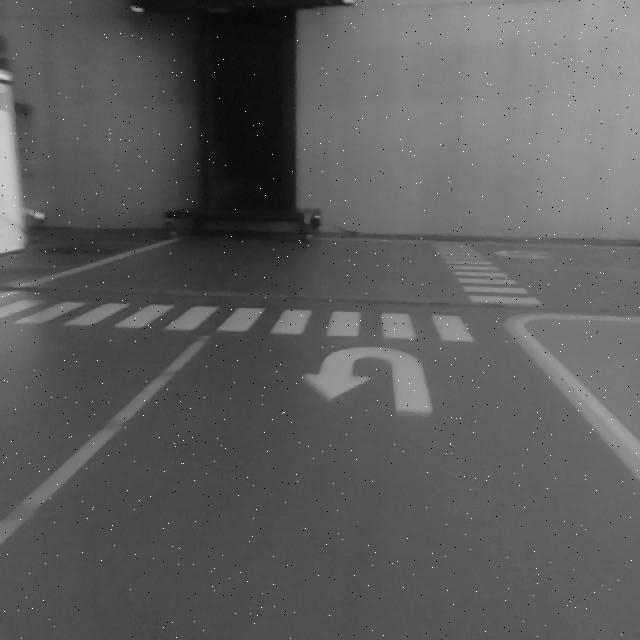left_lane: (0, 335, 207, 548), (506, 321, 640, 479)
